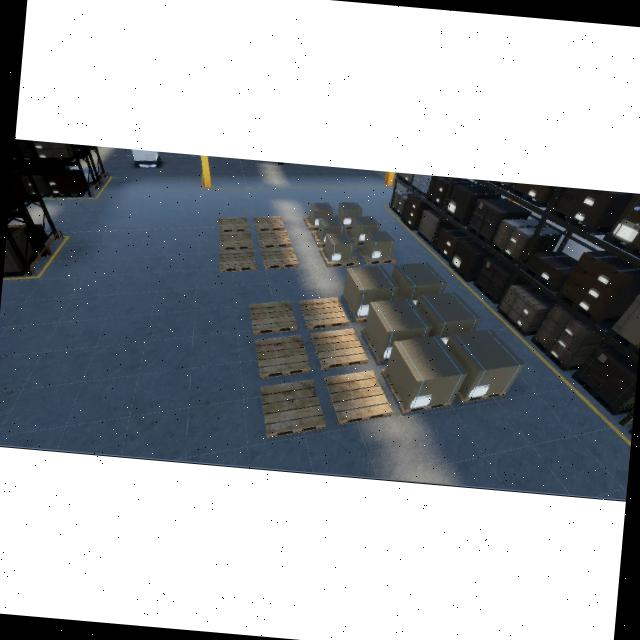wooden_pallet: (381, 368, 451, 414), (309, 328, 367, 369), (298, 296, 348, 330), (260, 247, 298, 268), (356, 246, 396, 265), (319, 248, 359, 267), (456, 390, 507, 403)
